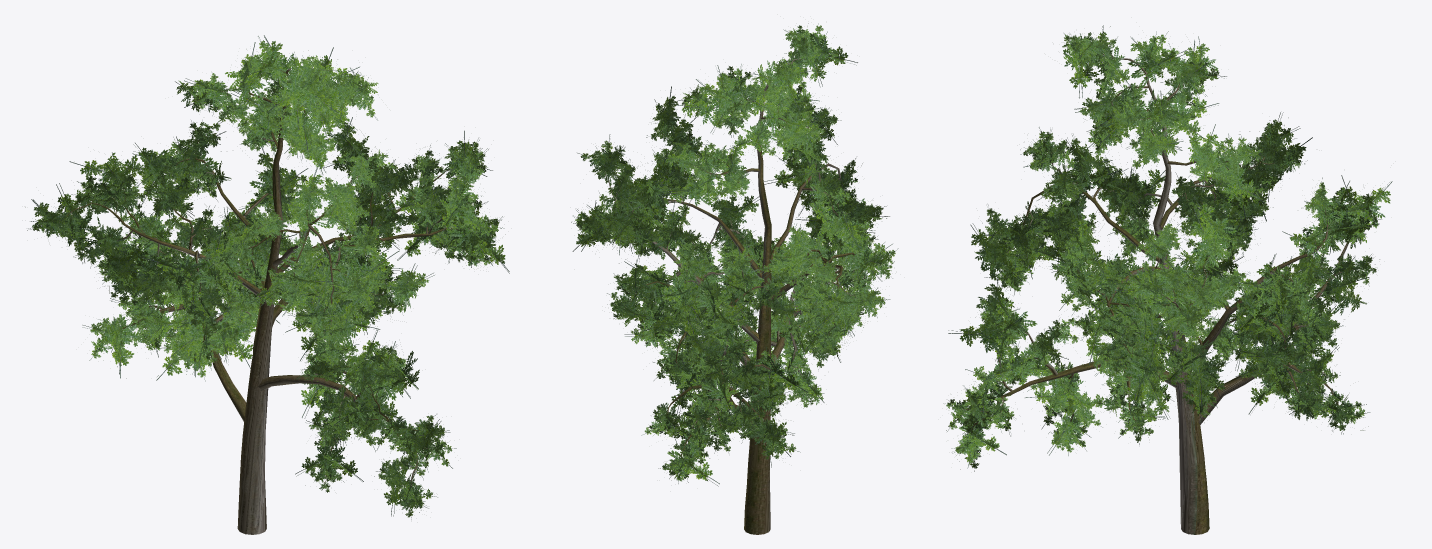
File: ez-ash-medium.glb
The picture shows the model from 3 angles, left to right: view 1: azimuth 30°, elevation 25°; view 2: azimuth 150°, elevation 25°; view 3: azimuth 270°, elevation 25°; orthographic projection. The views are drawn at different scales.
Visible parts, largest first — view 1: mid, near; view 2: near, mid; view 3: mid, near.
Boxes of the visible parts, left/top/right/bottom form: mid: left=25, top=35, right=509, bottom=534; near: left=27, top=36, right=505, bottom=534; near: left=571, top=23, right=898, bottom=534; mid: left=572, top=27, right=892, bottom=534; mid: left=948, top=25, right=1392, bottom=534; near: left=943, top=26, right=1382, bottom=534.
Size of the model in its own units: 10.71 by 12.08 by 10.42.
Materials: 1 (1 with a texture image).
